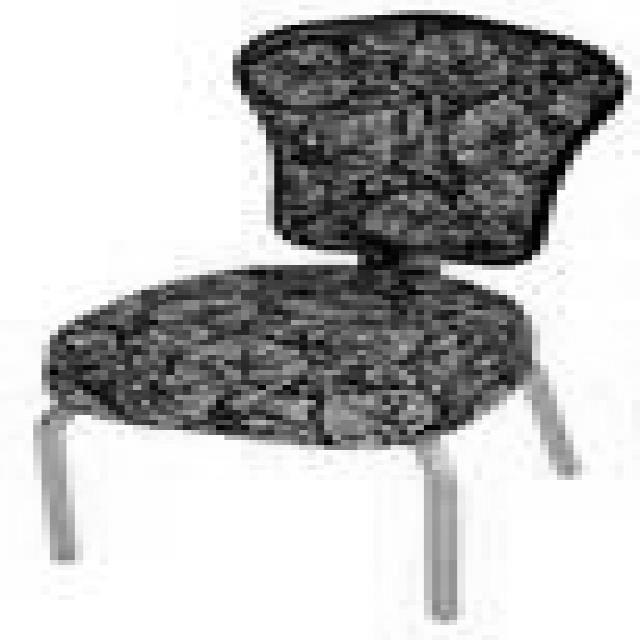chair: (27, 9, 633, 624)
